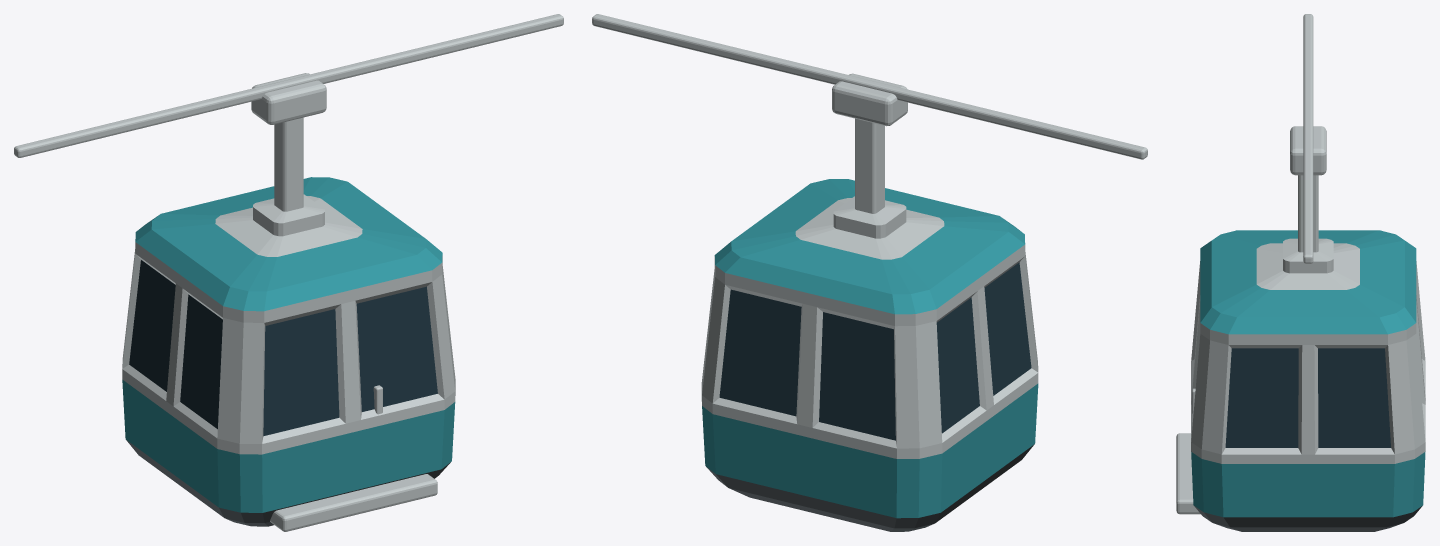
File: NEW_RECOVERY_114_LOD0.glb
The picture shows the model from 3 angles, left to right: view 1: azimuth 30°, elevation 25°; view 2: azimuth 150°, elevation 25°; view 3: azimuth 270°, elevation 25°; orthographic projection. The views are drawn at different scales.
Parts seen in each view (by area): view 1: Cable car cabin with continuous roof hanger; view 2: Cable car cabin with continuous roof hanger; view 3: Cable car cabin with continuous roof hanger.
Boxes of the visible parts, <box> form: Cable car cabin with continuous roof hanger: <box>14,14,563,531</box>; Cable car cabin with continuous roof hanger: <box>592,14,1147,531</box>; Cable car cabin with continuous roof hanger: <box>1176,14,1425,531</box>.
Bounding box in the file's own units: 4.4 × 3.1 × 1.91.
